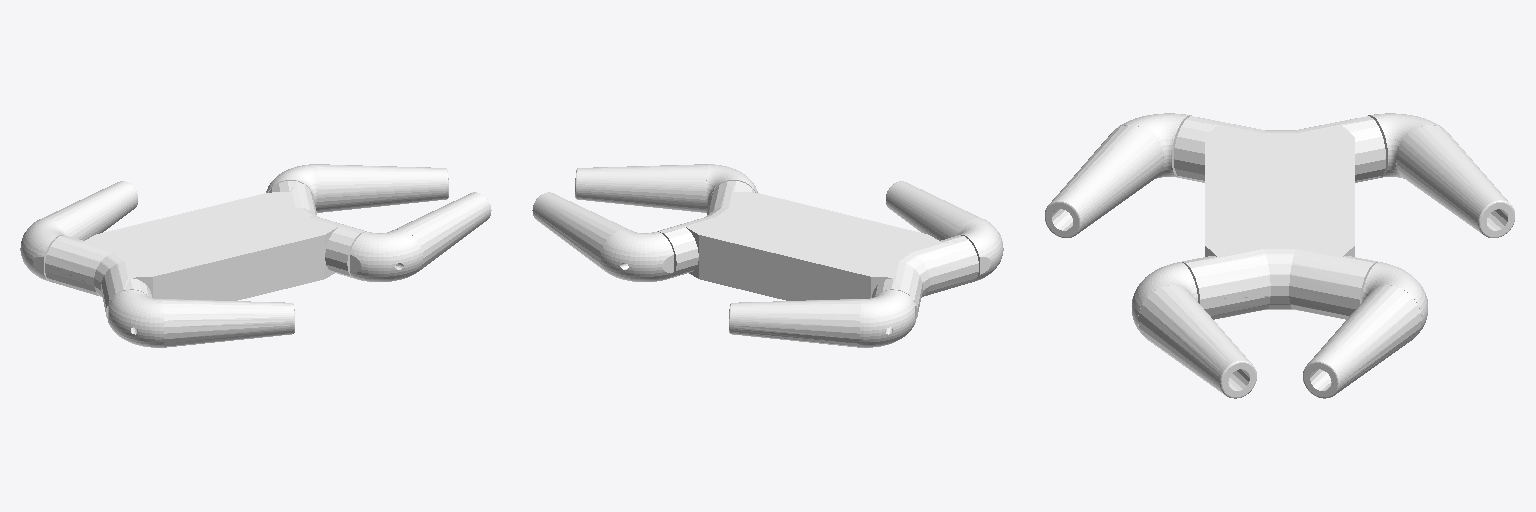
robot.urdf — 25_degree:
<?xml version="1.0" encoding="utf-8"?>
<!-- This URDF was automatically created by SolidWorks to URDF Exporter! Originally created by [author] ([email redacted]) 
     Commit Version: 1.5.1-0-g916b5db  Build Version: 1.5.7152.31018
     For more information, please see http://wiki.ros.org/sw_urdf_exporter -->
<robot
  name="25_degree">
  <link
    name="base_link">
    <inertial>
      <origin
        xyz="3.4694E-17 7.7909E-08 -3.4694E-18"
        rpy="0 0 0" />
      <mass
        value="2.803" />
      <inertia
        ixx="0.009452943"
        ixy="-9.7276E-19"
        ixz="-9.4587E-09"
        iyy="0.045103007"
        iyz="1.7688E-19"
        izz="0.052176953" />
    </inertial>
    <visual>
      <origin
        xyz="0 0 0"
        rpy="0 0 0" />
      <geometry>
        <mesh
          filename="package://25_degree/meshes/base_link.STL" />
      </geometry>
      <material
        name="">
        <color
          rgba="1 1 1 1" />
      </material>
    </visual>
    <collision>
      <origin
        xyz="0 0 0"
        rpy="0 0 0" />
      <geometry>
        <mesh
          filename="package://25_degree/meshes/base_link.STL" />
      </geometry>
    </collision>
  </link>
  <link
    name="left_fromt_link">
    <inertial>
      <origin
        xyz="-8.6191E-08 0.080647 -0.0026485"
        rpy="0 0 0" />
      <mass
        value="0.096" />
      <inertia
        ixx="0.000418368"
        ixy="3.5574E-10"
        ixz="5.0121E-10"
        iyy="0.000095799"
        iyz="-0.000119018"
        izz="0.000364345" />
    </inertial>
    <visual>
      <origin
        xyz="0 0 0"
        rpy="0 0 0" />
      <geometry>
        <mesh
          filename="package://25_degree/meshes/left_fromt_link.STL" />
      </geometry>
      <material
        name="">
        <color
          rgba="1 1 1 1" />
      </material>
    </visual>
    <collision>
      <origin
        xyz="0 0 0"
        rpy="0 0 0" />
      <geometry>
        <mesh
          filename="package://25_degree/meshes/left_fromt_link.STL" />
      </geometry>
    </collision>
  </link>
  <joint
    name="left_front_leg"
    type="continuous">
    <origin
      xyz="0.17353 0.09335 0"
      rpy="1.5708 1.5708 0" />
    <parent
      link="base_link" />
    <child
      link="left_fromt_link" />
    <axis
      xyz="0 0.42262 -0.90631" />
    <limit
      effort="5"
      velocity="487" />
  </joint>
  <link
    name="right_front_link">
    <inertial>
      <origin
        xyz="8.6191E-08 0.080647 0.0026485"
        rpy="0 0 0" />
      <mass
        value="0.096" />
      <inertia
        ixx="0.000410368"
        ixy="-3.5574E-10"
        ixz="5.0121E-10"
        iyy="0.000095799"
        iyz="0.000119018"
        izz="0.000363345" />
    </inertial>
    <visual>
      <origin
        xyz="0 0 0"
        rpy="0 0 0" />
      <geometry>
        <mesh
          filename="package://25_degree/meshes/right_front_link.STL" />
      </geometry>
      <material
        name="">
        <color
          rgba="1 1 1 1" />
      </material>
    </visual>
    <collision>
      <origin
        xyz="0 0 0"
        rpy="0 0 0" />
      <geometry>
        <mesh
          filename="package://25_degree/meshes/right_front_link.STL" />
      </geometry>
    </collision>
  </link>
  <joint
    name="right_front_leg"
    type="continuous">
    <origin
      xyz="0.17353 -0.09335 0"
      rpy="1.5708 1.5708 0" />
    <parent
      link="base_link" />
    <child
      link="right_front_link" />
    <axis
      xyz="0 0.42262 0.90631" />
    <limit
      effort="5"
      velocity="487" />
  </joint>
  <link
    name="right_back_link">
    <inertial>
      <origin
        xyz="7.2725E-08 0.071972 0.036483"
        rpy="0 0 0" />
      <mass
        value="0.096" />
      <inertia
        ixx="0.000410368"
        ixy="-2.2799E-10"
        ixz="8.6202E-10"
        iyy="0.00005259"
        iyz="-0.000026356"
        izz="0.000407553" />
    </inertial>
    <visual>
      <origin
        xyz="0 0 0"
        rpy="0 0 0" />
      <geometry>
        <mesh
          filename="package://25_degree/meshes/right_back_link.STL" />
      </geometry>
      <material
        name="">
        <color
          rgba="1 1 1 1" />
      </material>
    </visual>
    <collision>
      <origin
        xyz="0 0 0"
        rpy="0 0 0" />
      <geometry>
        <mesh
          filename="package://25_degree/meshes/right_back_link.STL" />
      </geometry>
    </collision>
  </link>
  <joint
    name="right_back_leg"
    type="continuous">
    <origin
      xyz="-0.17353 -0.09335 0"
      rpy="2.0071 1.5708 0" />
    <parent
      link="base_link" />
    <child
      link="right_back_link" />
    <axis
      xyz="0 0 1" />
    <limit
      effort="5"
      velocity="487" />
  </joint>
  <link
    name="left_back_link">
    <inertial>
      <origin
        xyz="-7.2725E-08 0.049811 -0.063482"
        rpy="0 0 0" />
      <mass
        value="0.096" />
      <inertia
        ixx="0.000410368"
        ixy="5.7094E-10"
        ixz="6.849E-10"
        iyy="0.000136178"
        iyz="0.0001529"
        izz="0.000323965" />
    </inertial>
    <visual>
      <origin
        xyz="0 0 0"
        rpy="0 0 0" />
      <geometry>
        <mesh
          filename="package://25_degree/meshes/left_back_link.STL" />
      </geometry>
      <material
        name="">
        <color
          rgba="1 1 1 1" />
      </material>
    </visual>
    <collision>
      <origin
        xyz="0 0 0"
        rpy="0 0 0" />
      <geometry>
        <mesh
          filename="package://25_degree/meshes/left_back_link.STL" />
      </geometry>
    </collision>
  </link>
  <joint
    name="left_back_leg"
    type="continuous">
    <origin
      xyz="-0.17353 0.09335 0"
      rpy="1.5708 1.5708 0" />
    <parent
      link="base_link" />
    <child
      link="left_back_link" />
    <axis
      xyz="0 -0.42262 -0.90631" />
    <limit
      effort="5"
      velocity="487" />
  </joint>
</robot>

--- Facts derived from the render (not from the file) ---
The picture shows the robot from 3 angles, left to right: view 1: azimuth 30°, elevation 25°; view 2: azimuth 150°, elevation 25°; view 3: azimuth 270°, elevation 25°; orthographic projection.
Robot: 25_degree — 5 links, 4 joints (4 continuous); root link base_link; default pose: every joint at zero.
Visible links, largest first — view 1: base_link, right_back_link, right_front_link, left_fromt_link, left_back_link; view 2: base_link, left_back_link, left_fromt_link, right_front_link, right_back_link; view 3: base_link, left_back_link, right_back_link, left_fromt_link, right_front_link.
Link boxes in pixels (<box>): base_link: <box>45,181,366,318</box>; right_back_link: <box>108,290,294,347</box>; right_front_link: <box>350,192,491,281</box>; left_fromt_link: <box>266,164,448,212</box>; left_back_link: <box>20,181,137,281</box>; base_link: <box>657,181,978,318</box>; left_back_link: <box>729,290,915,347</box>; left_fromt_link: <box>532,192,673,281</box>; right_front_link: <box>575,164,757,212</box>; right_back_link: <box>886,181,1003,281</box>; base_link: <box>1174,116,1385,319</box>; left_back_link: <box>1368,113,1514,237</box>; right_back_link: <box>1045,113,1191,237</box>; left_fromt_link: <box>1303,262,1427,398</box>; right_front_link: <box>1132,262,1256,398</box>.
Bounding box of the posed robot: 0.5991 × 0.4733 × 0.064 m (x, y, z).
Meshes: 5 distinct files referenced, 5 mesh visuals loaded (5 binary STL).